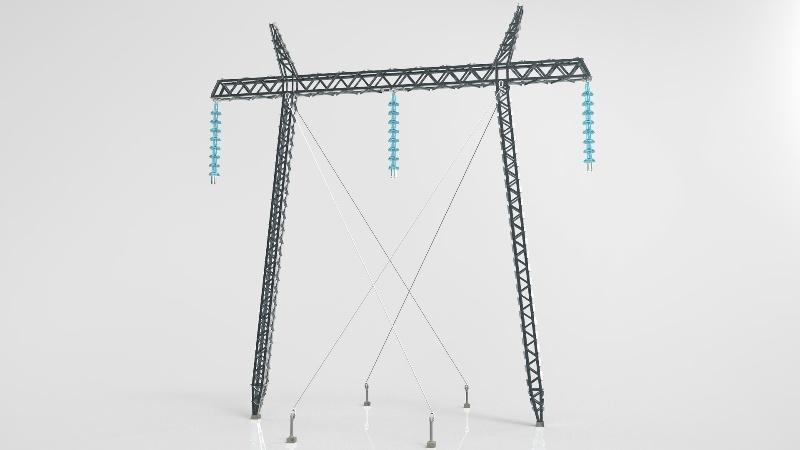power_tower: (207, 4, 596, 428)
